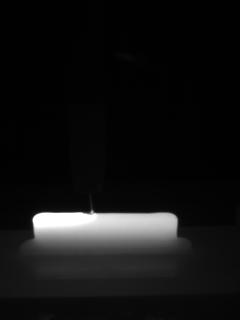tip_wire_left: (74, 189, 93, 213)
tip_wire_right: (91, 187, 105, 214)
